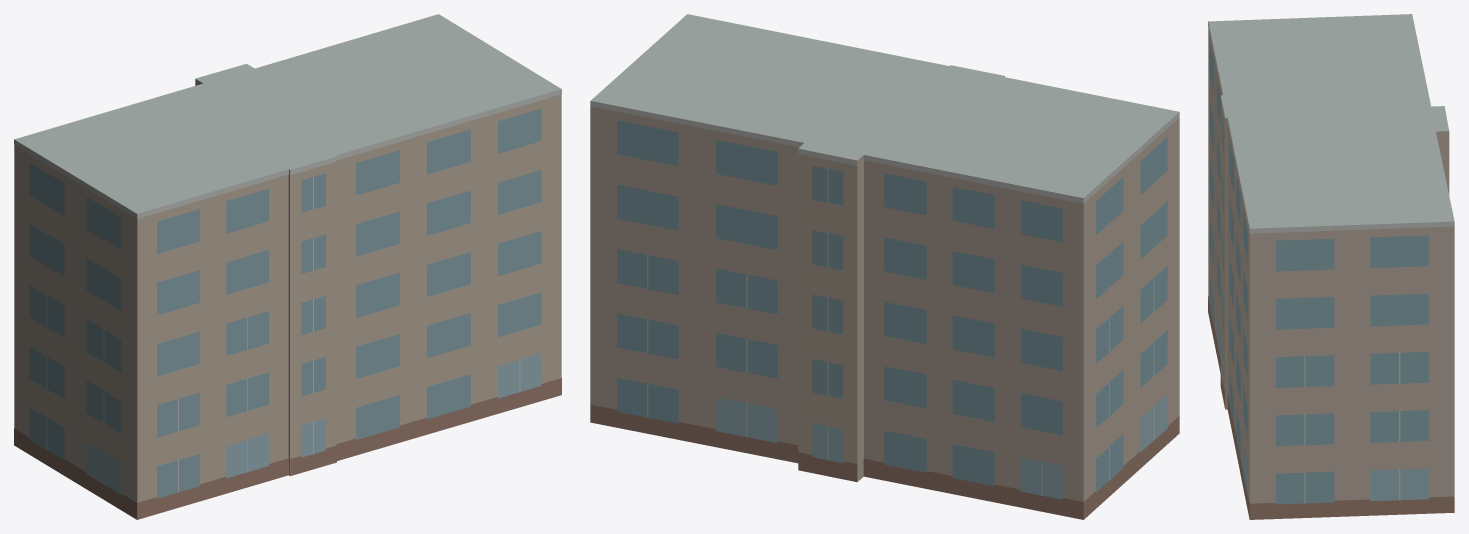
File: survey-upis-32917790.glb
The picture shows the model from 3 angles, left to right: view 1: azimuth 30°, elevation 25°; view 2: azimuth 150°, elevation 25°; view 3: azimuth 270°, elevation 25°; orthographic projection. The views are drawn at different scales.
Parts seen in each view (by area): view 1: survey-upis-32917790.tmp; view 2: survey-upis-32917790.tmp; view 3: survey-upis-32917790.tmp.
Boxes of the visible parts, x1=… form: survey-upis-32917790.tmp: x1=14, y1=14, x2=561, y2=519; survey-upis-32917790.tmp: x1=590, y1=14, x2=1179, y2=519; survey-upis-32917790.tmp: x1=1208, y1=14, x2=1454, y2=519.
Bounding box in the file's own units: 22.86 × 14.45 × 11.09.
